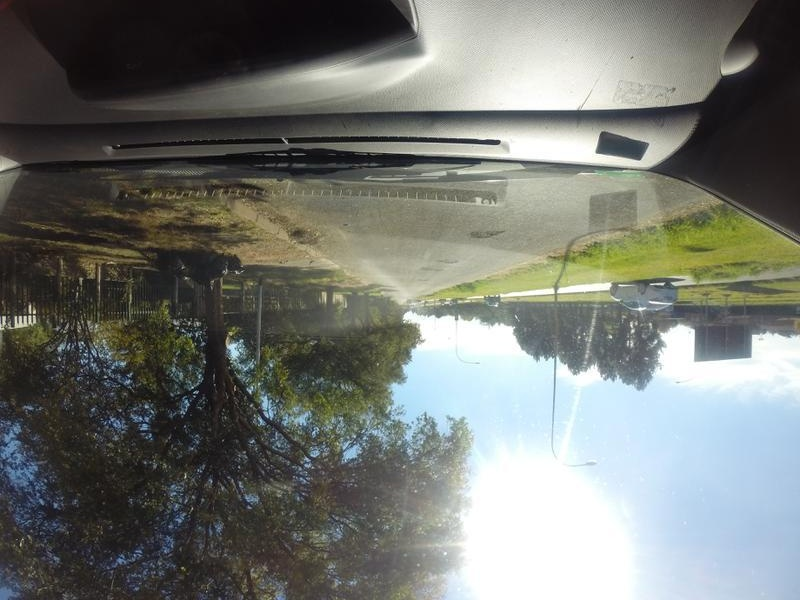pothole: (463, 222, 510, 247), (435, 252, 463, 265), (424, 262, 448, 275)
